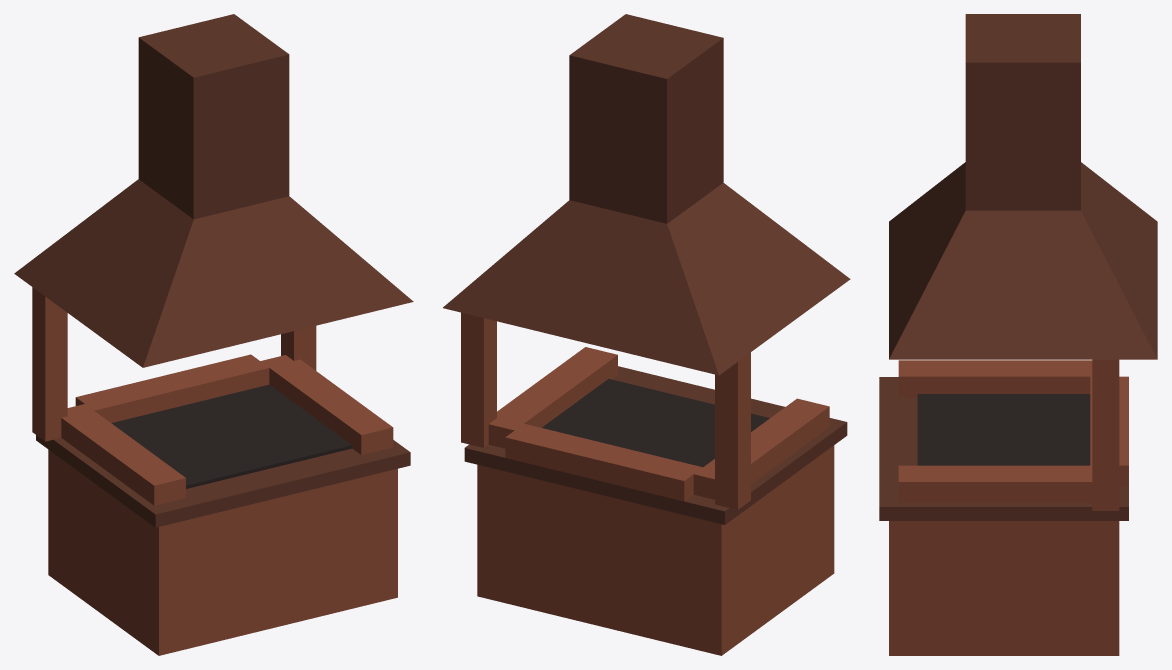
File: hearth.glb
3 views of the same model, side by side, from view 1: azimuth 30°, elevation 25°; view 2: azimuth 150°, elevation 25°; view 3: azimuth 270°, elevation 25° (orthographic). The views are drawn at different scales.
Parts seen in each view (by area): view 1: hearth; view 2: hearth; view 3: hearth.
Part boxes in pixels (x1,y1,x2,y2): hearth: [14, 14, 413, 655]; hearth: [443, 14, 850, 655]; hearth: [879, 14, 1157, 655].
Bounding box in the file's own units: 1.7 × 3.2 × 1.45.
